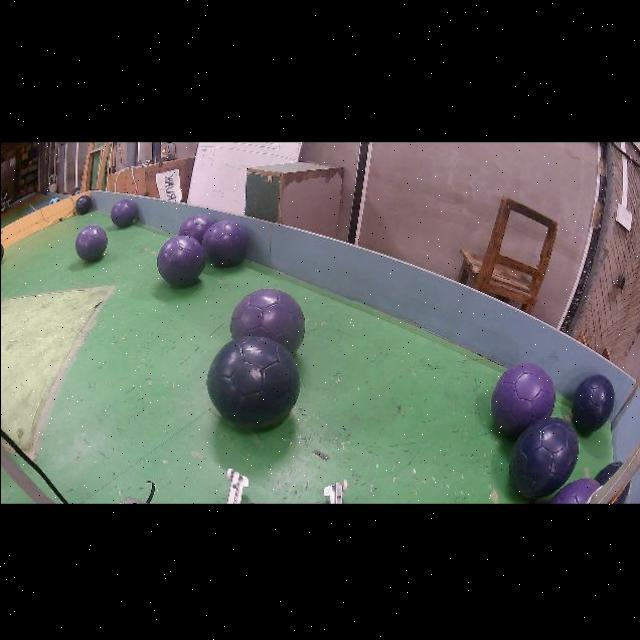B: (206, 335, 299, 428), (509, 417, 578, 499), (572, 374, 613, 431), (75, 194, 91, 214)
P: (229, 287, 304, 353), (490, 363, 554, 437), (156, 234, 204, 286), (202, 219, 246, 266), (549, 477, 599, 504), (75, 224, 106, 261), (178, 213, 213, 243), (110, 199, 135, 227)
